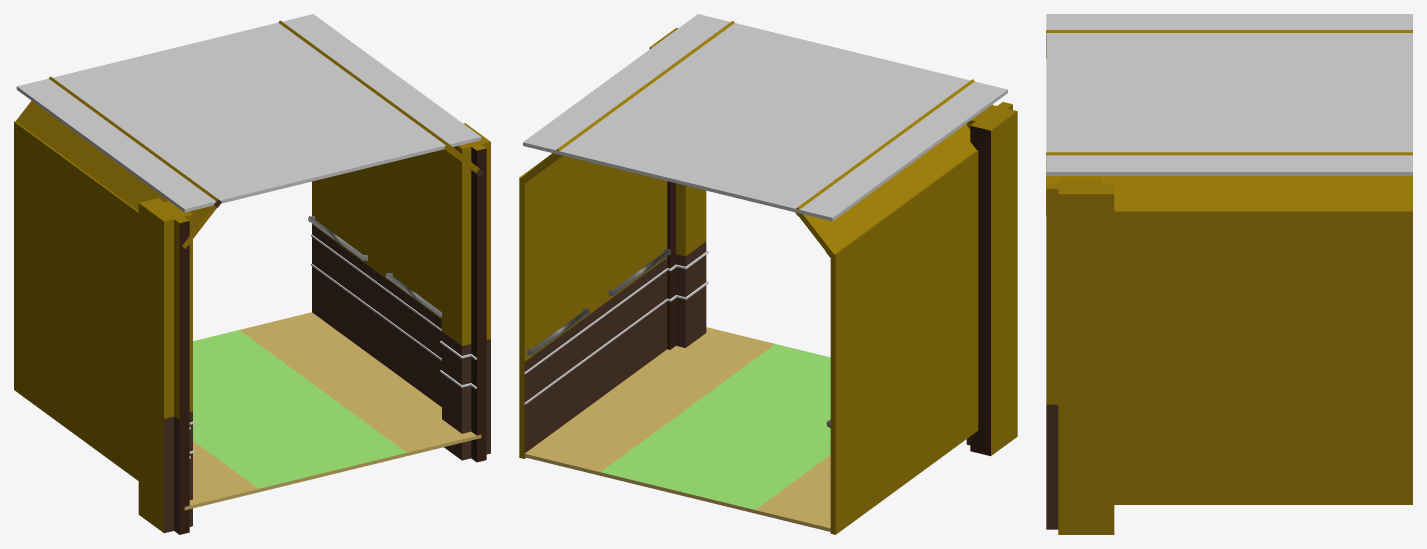
The model's file is Hallway.fbx.
The picture shows the model from 3 angles, left to right: view 1: azimuth 30°, elevation 25°; view 2: azimuth 150°, elevation 25°; view 3: azimuth 270°, elevation 25°; orthographic projection. The views are drawn at different scales.
Visible parts, largest first — view 1: Cube.004, Cube.003, Cube, Cube.009, Cube.001, Cube.011, Cube.002, Cube.012; view 2: Cube.004, Cube, Cube.003, Cube.009, Cube.001, Cube.002, Cube.011, Cube.012, Cube.013, Cube.014; view 3: Cube.009, Cube.004, Cube.011, Cube.012, Cube.002.
Part boxes in pixels (x1,y1,x2,y2): Cube.004: (16,14,481,212); Cube.003: (184,312,481,510); Cube: (14,121,138,480); Cube.009: (312,150,441,406); Cube.001: (138,198,192,534); Cube.011: (442,123,490,462); Cube.002: (16,76,221,248); Cube.012: (278,20,483,176); Cube.004: (523,14,1007,221); Cube: (830,150,978,534); Cube.003: (524,327,830,531); Cube.009: (519,155,667,458); Cube.001: (966,102,1017,456); Cube.002: (795,79,992,259); Cube.011: (649,28,706,349); Cube.012: (520,21,734,183); Cube.013: (523,250,708,374); Cube.014: (523,281,708,404); Cube.009: (1114,210,1412,504); Cube.004: (1046,14,1412,175); Cube.011: (1046,179,1114,534); Cube.012: (1046,152,1412,215); Cube.002: (1046,30,1412,57).
Bounding box in the file's own units: 741 × 707 × 660.
